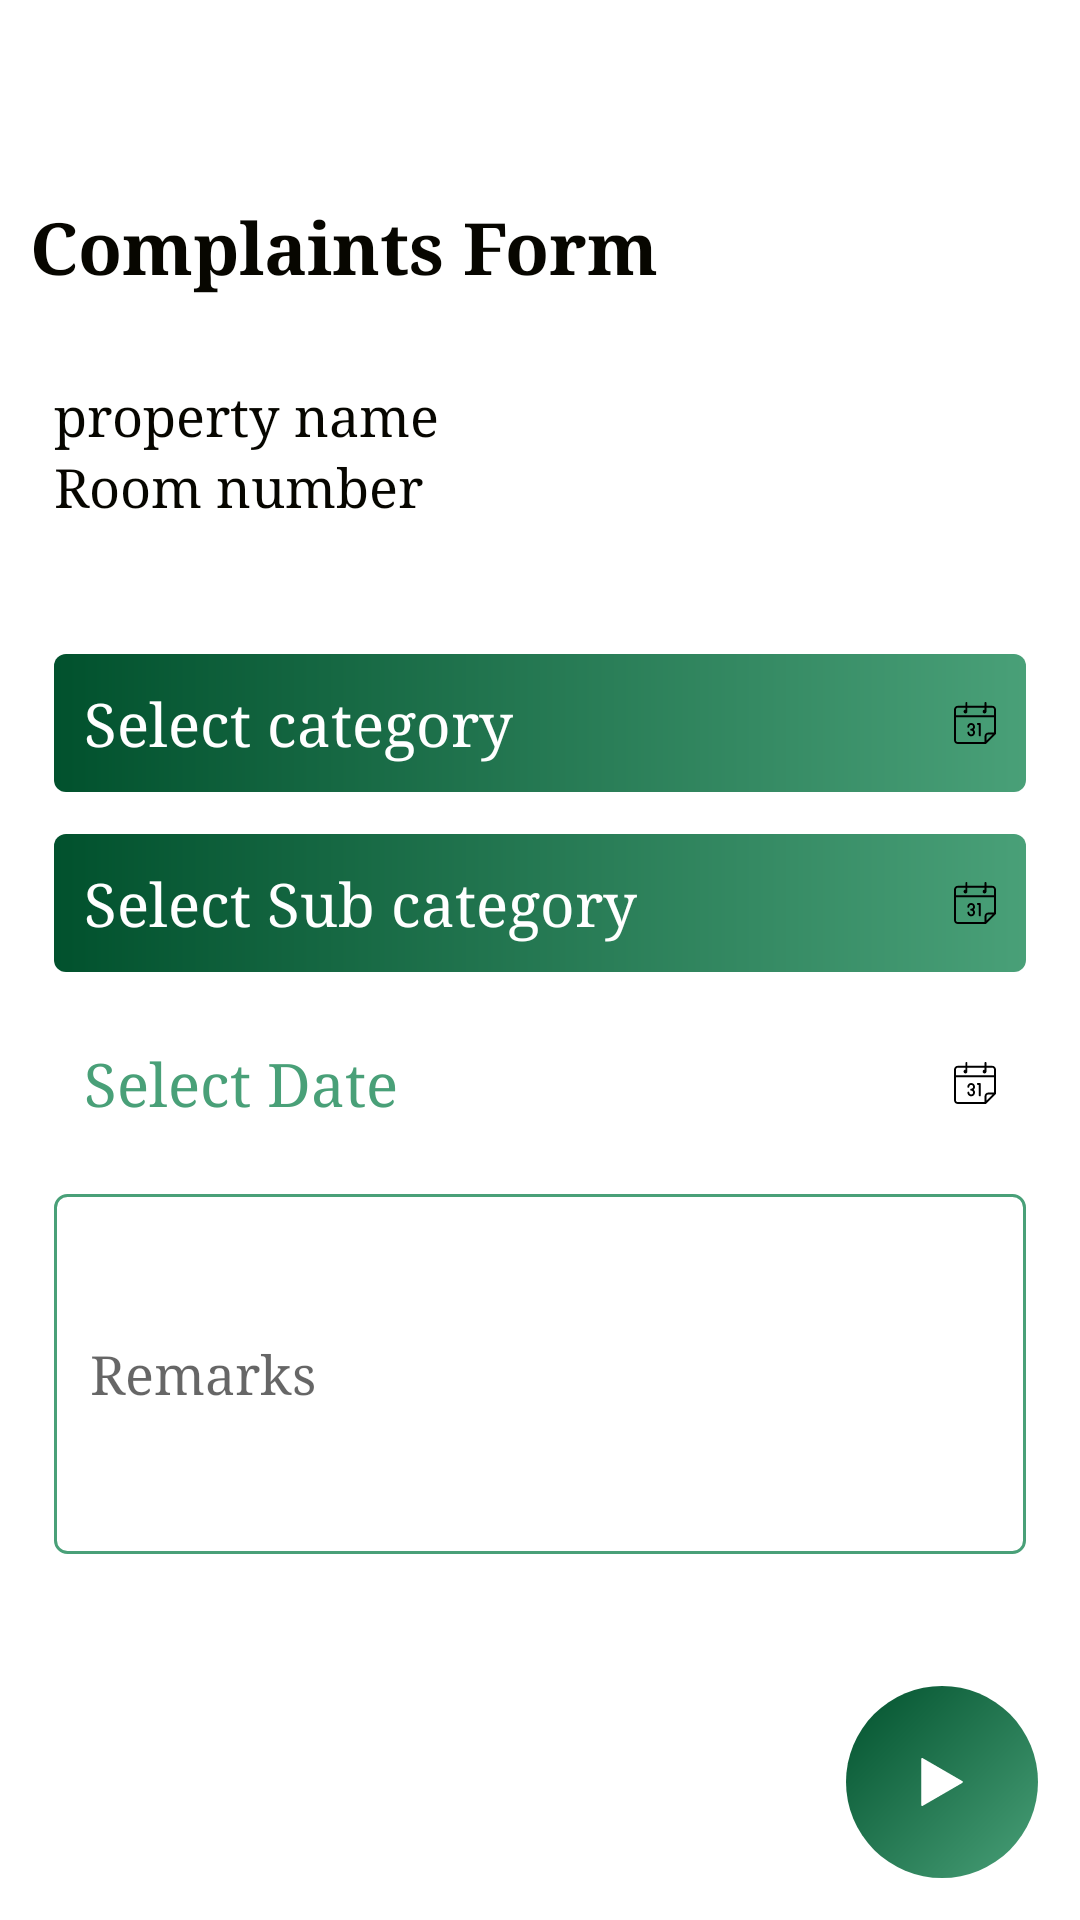

Screen size 1080px x 1920px. Icon name, then its center in pixels as (x,y):
arrow right: (942,1782)
